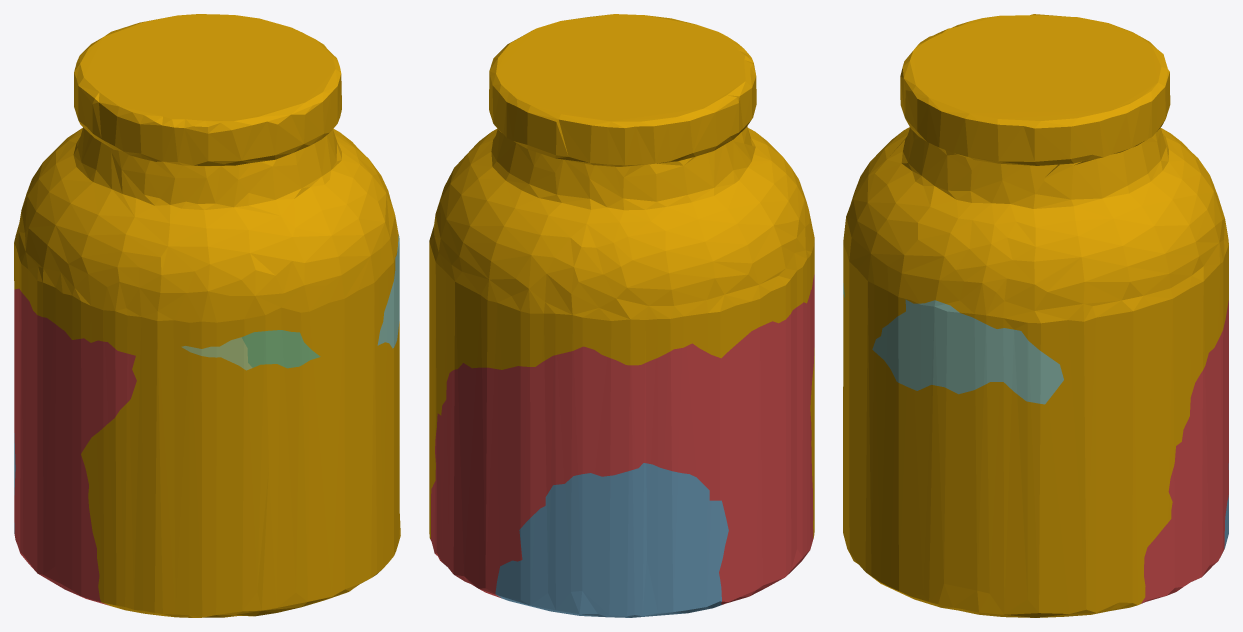
The model's file is fractured_36_6pcs.glb.
The picture shows the model from 3 angles, left to right: view 1: azimuth 30°, elevation 25°; view 2: azimuth 150°, elevation 25°; view 3: azimuth 270°, elevation 25°; orthographic projection.
Parts seen in each view (by area): view 1: piece_0.obj, piece_1.obj, piece_3.obj, piece_4.obj, piece_5.obj; view 2: piece_0.obj, piece_1.obj, piece_2.obj; view 3: piece_0.obj, piece_1.obj, piece_4.obj.
Boxes of the visible parts, x1=… form: piece_0.obj: x1=14, y1=14, x2=400, y2=617; piece_1.obj: x1=14, y1=288, x2=136, y2=605; piece_3.obj: x1=241, y1=330, x2=320, y2=368; piece_4.obj: x1=377, y1=235, x2=399, y2=348; piece_5.obj: x1=181, y1=337, x2=252, y2=370; piece_0.obj: x1=429, y1=14, x2=814, y2=538; piece_1.obj: x1=430, y1=274, x2=814, y2=604; piece_2.obj: x1=495, y1=463, x2=728, y2=617; piece_0.obj: x1=843, y1=14, x2=1228, y2=617; piece_1.obj: x1=1141, y1=300, x2=1228, y2=603; piece_4.obj: x1=872, y1=299, x2=1063, y2=404.
Size of the model in its own units: 0.7401 by 1 by 0.74.
